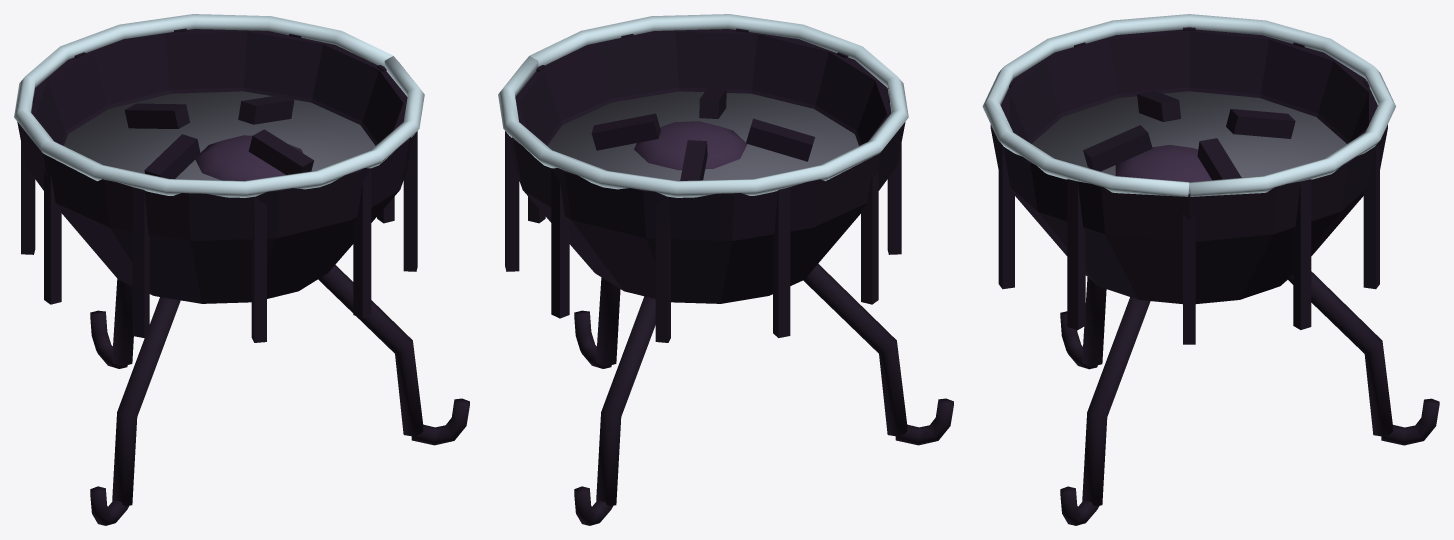
Rendered from brazier_cold.glb.
The picture shows the model from 3 angles, left to right: view 1: azimuth 30°, elevation 25°; view 2: azimuth 150°, elevation 25°; view 3: azimuth 270°, elevation 25°; orthographic projection.
Visible parts, largest first — view 1: brazier_cold; view 2: brazier_cold; view 3: brazier_cold.
Boxes of the visible parts, box(x1,y1,x2,y2) form: brazier_cold: box(14, 14, 469, 525); brazier_cold: box(498, 14, 953, 525); brazier_cold: box(982, 14, 1439, 525).
Bounding box in the file's own units: 0.6773 × 0.5886 × 0.707.
